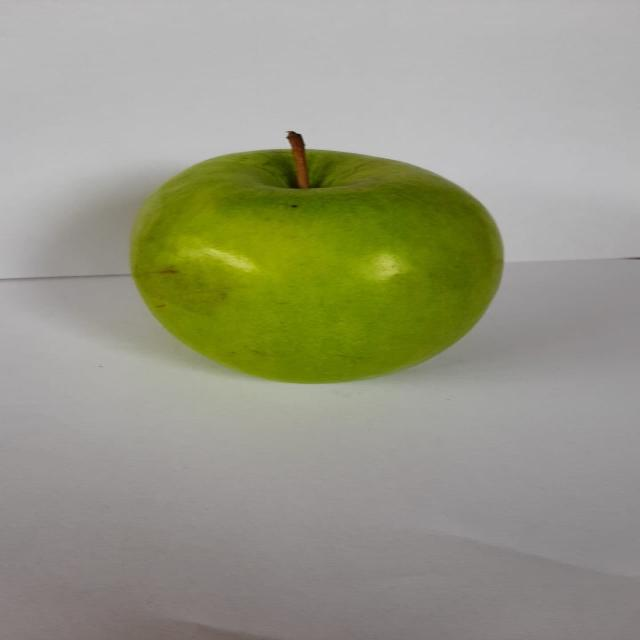50-_ripeness: (122, 127, 512, 390)
